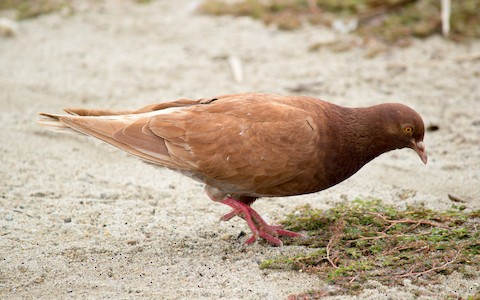pigeon: (28, 83, 436, 250)
